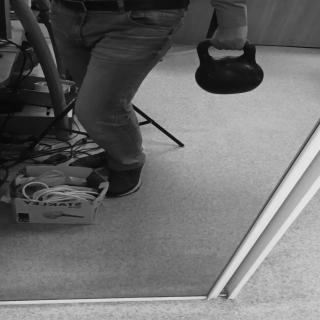girya: (196, 40, 265, 95)
